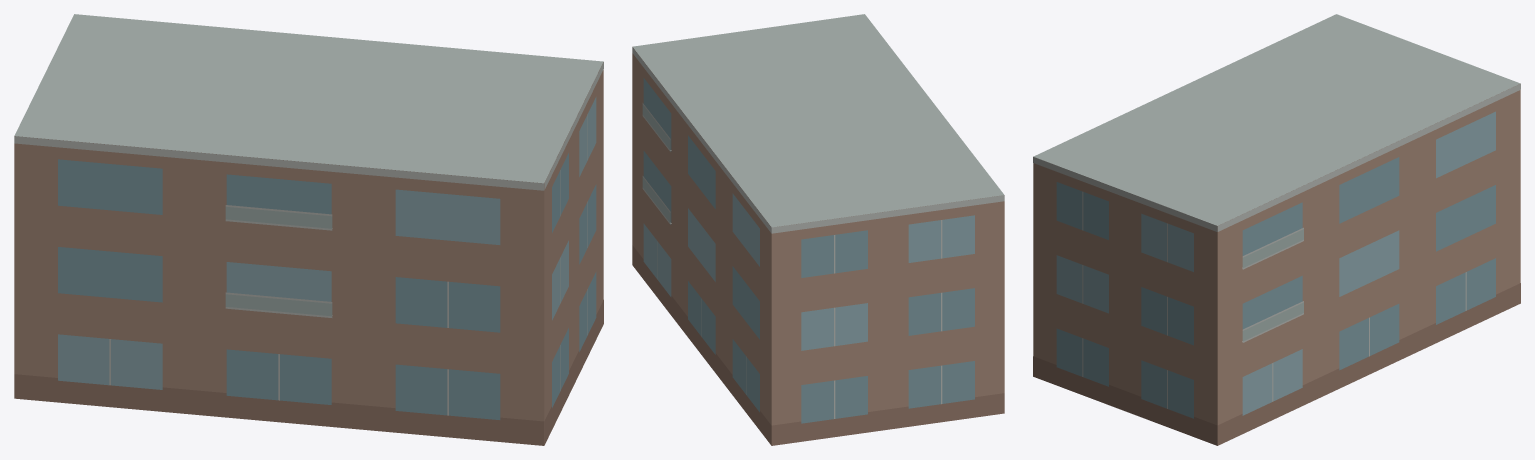
Rendered from survey-upis-33007801.glb.
3 renders of one model, left to right at view 1: azimuth 30°, elevation 25°; view 2: azimuth 150°, elevation 25°; view 3: azimuth 270°, elevation 25°, orthographic. The views are drawn at different scales.
Visible parts, largest first — view 1: survey-upis-33007801.tmp; view 2: survey-upis-33007801.tmp; view 3: survey-upis-33007801.tmp.
Boxes of the visible parts, left/top/right/bottom form: survey-upis-33007801.tmp: left=14, top=14, right=603, bottom=445; survey-upis-33007801.tmp: left=632, top=14, right=1004, bottom=445; survey-upis-33007801.tmp: left=1033, top=14, right=1520, bottom=445.
Bounding box in the file's own units: 17.78 × 8.6 × 17.29.
